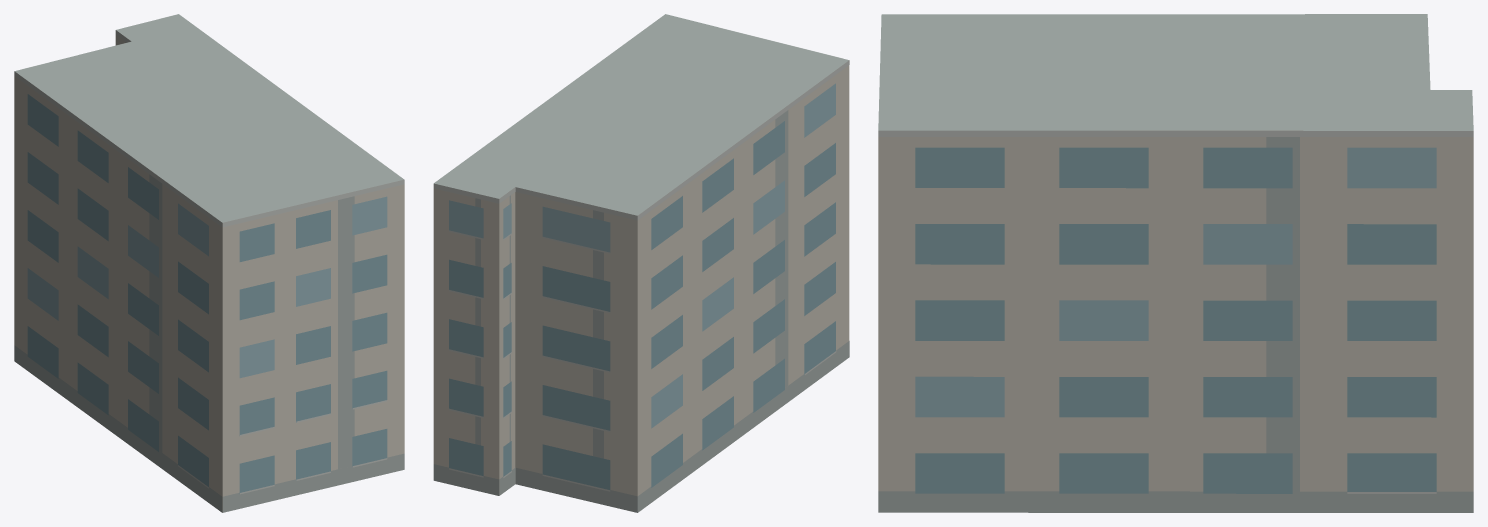
File: survey-upis-32969803.glb
The picture shows the model from 3 angles, left to right: view 1: azimuth 30°, elevation 25°; view 2: azimuth 150°, elevation 25°; view 3: azimuth 270°, elevation 25°; orthographic projection. The views are drawn at different scales.
Visible parts, largest first — view 1: survey-upis-32969803.tmp; view 2: survey-upis-32969803.tmp; view 3: survey-upis-32969803.tmp.
Boxes of the visible parts, x1,y1,x2,y2 form: survey-upis-32969803.tmp: [14, 14, 404, 512]; survey-upis-32969803.tmp: [433, 14, 849, 512]; survey-upis-32969803.tmp: [878, 14, 1473, 512].
Size of the model in its own units: 9.86 by 15 by 21.2.
